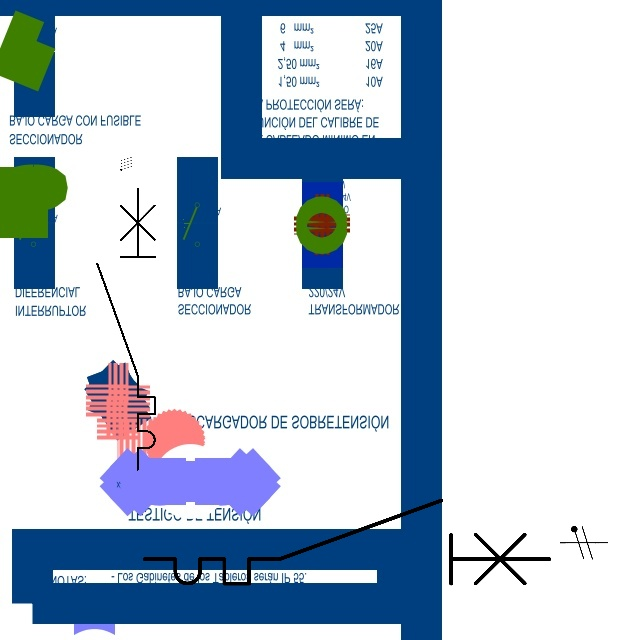interruptor_termomagnetico: (134, 490, 560, 594), (90, 181, 162, 476)
